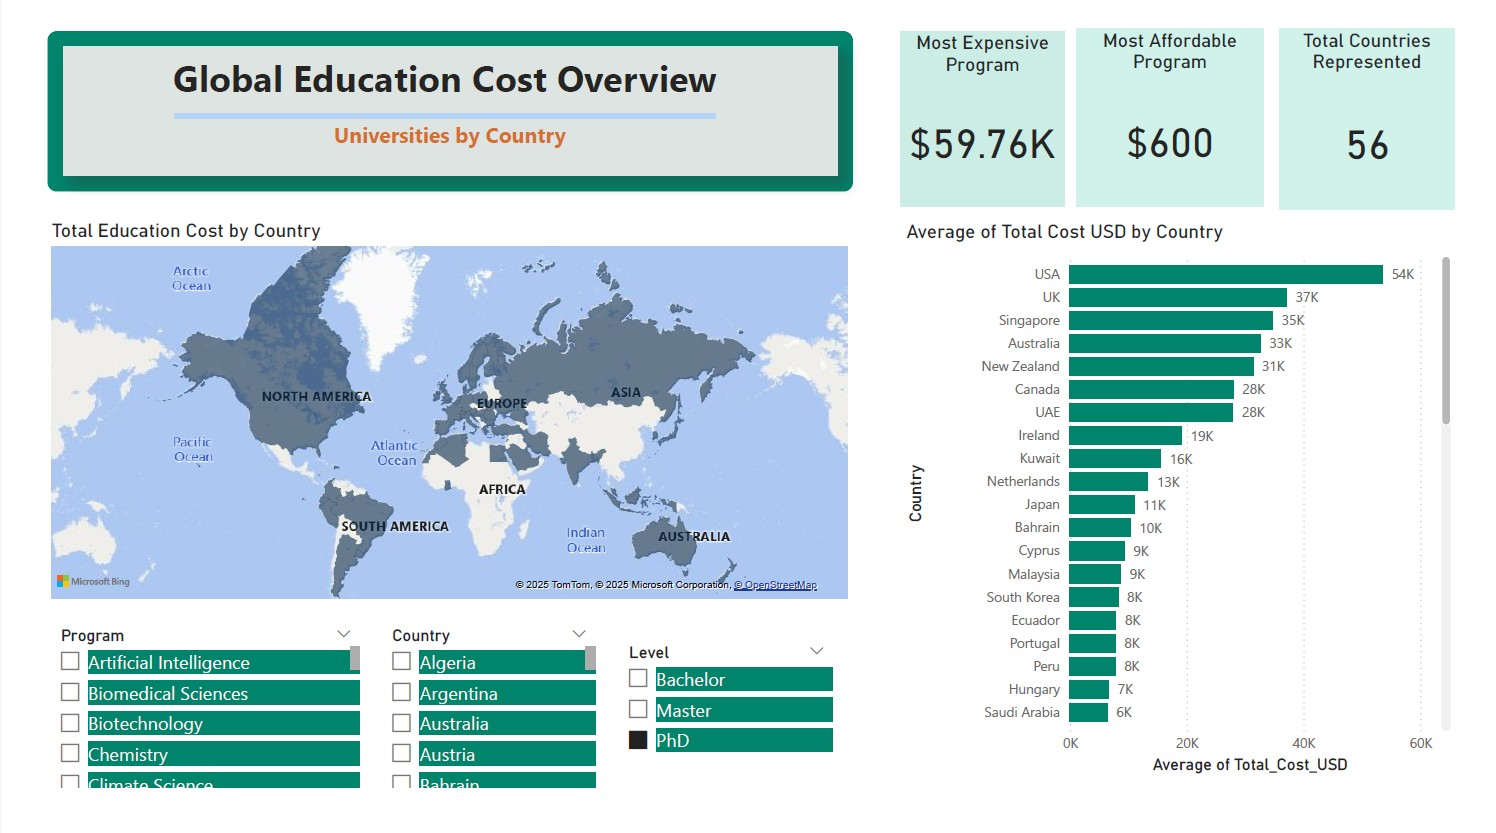

This screenshot's page, from the dashboard's own definition file:
{"tool":"powerbi","page":{"name":"Page 1","canvas":[1280,720],"ordinal":0},"visuals":[{"type":"clusteredBarChart","title":"Average of Total Cost USD by Country","fields":{"Category":["International_Education_Costs.Country"],"Y":["Avg(International_Education_Costs.Total_Cost_USD)"]},"box":[770,181.2,491.2,493.8],"z":0},{"type":"card","title":"Most Expensive Program","fields":{"Values":["Max(International_Education_Costs.Total_Cost_USD)"]},"box":[770,13.8,145,155],"z":1000},{"type":"card","title":"Most Affordable Program","fields":{"Values":["Min(International_Education_Costs.Total_Cost_USD)"]},"box":[925.1,11.9,166.3,157],"z":2000},{"type":"card","title":"Total Countries Represented","fields":{"Values":["Count(International_Education_Costs.Country)"]},"box":[1104.6,11.9,154.4,159.7],"z":3000},{"type":"slicer","fields":{"Values":["International_Education_Costs.Level"]},"box":[516.7,550,198.3,123.3],"z":4000},{"type":"slicer","fields":{"Values":["International_Education_Costs.Program"]},"box":[15,535,281.7,153.3],"z":5000},{"type":"slicer","fields":{"Values":["International_Education_Costs.Country"]},"box":[308.3,535,196.7,153.3],"z":6000},{"type":"shape","box":[16,14,712,142],"z":6500},{"type":"textbox","box":[30,28,684,114],"z":7000},{"type":"filledMap","title":"Total Education Cost by Country ","fields":{"Category":["International_Education_Costs.Country"]},"box":[15,180,713.3,340],"z":8000},{"type":"shape","box":[128,22,478,134],"z":10000}]}

Visuals, with their boxes in screenshot pixels (x1, y1, x2, y2), scaled from the page's 1280x720 canvas onto the 1496x833 screenshot:
"Average of Total Cost USD by Country" clusteredBarChart: <region>900, 210, 1474, 781</region>
"Most Expensive Program" card: <region>900, 16, 1069, 195</region>
"Most Affordable Program" card: <region>1081, 14, 1276, 195</region>
"Total Countries Represented" card: <region>1291, 14, 1471, 199</region>
slicer - International_Education_Costs.Level: <region>604, 636, 836, 779</region>
slicer - International_Education_Costs.Program: <region>18, 619, 347, 796</region>
slicer - International_Education_Costs.Country: <region>360, 619, 590, 796</region>
shape: <region>19, 16, 851, 180</region>
textbox: <region>35, 32, 834, 164</region>
"Total Education Cost by Country " filledMap: <region>18, 208, 851, 602</region>
shape: <region>150, 25, 708, 180</region>
